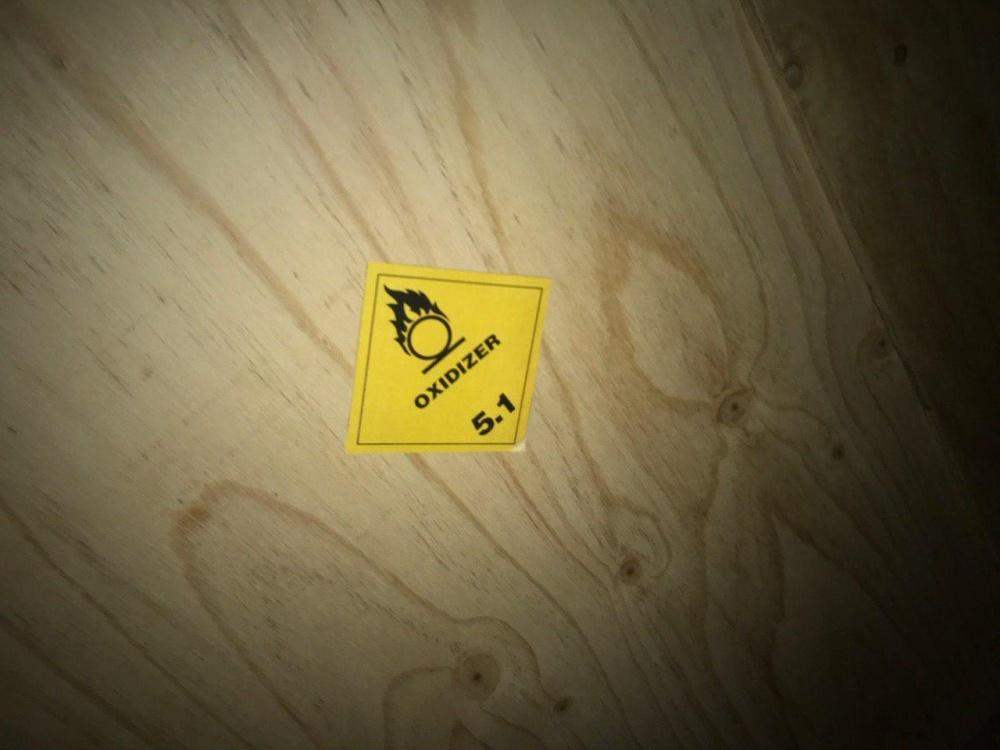oxidizer: (344, 261, 544, 455)
